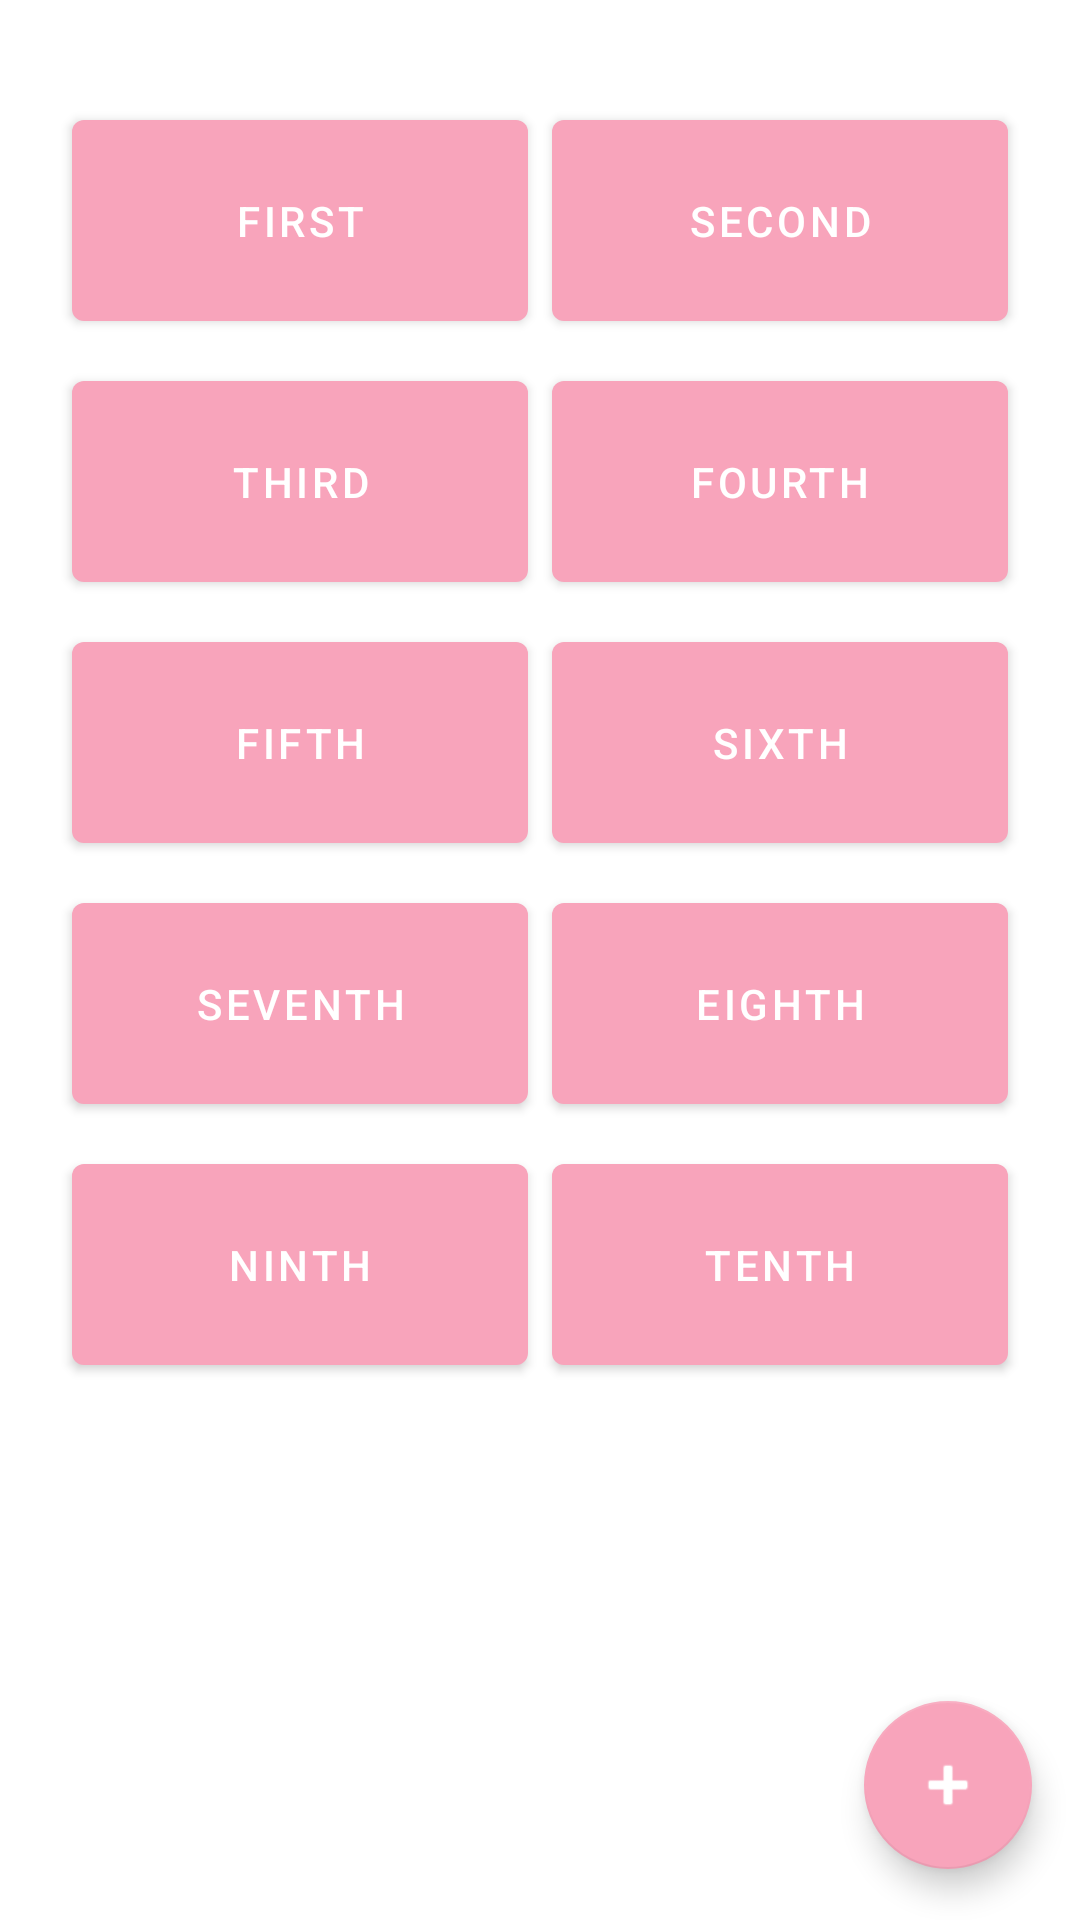

Named icons in this screenshot (1080px x 1920px) and their bounding boxes, (x1, y1, x2, y2):
add: (864, 1701, 1032, 1869)
